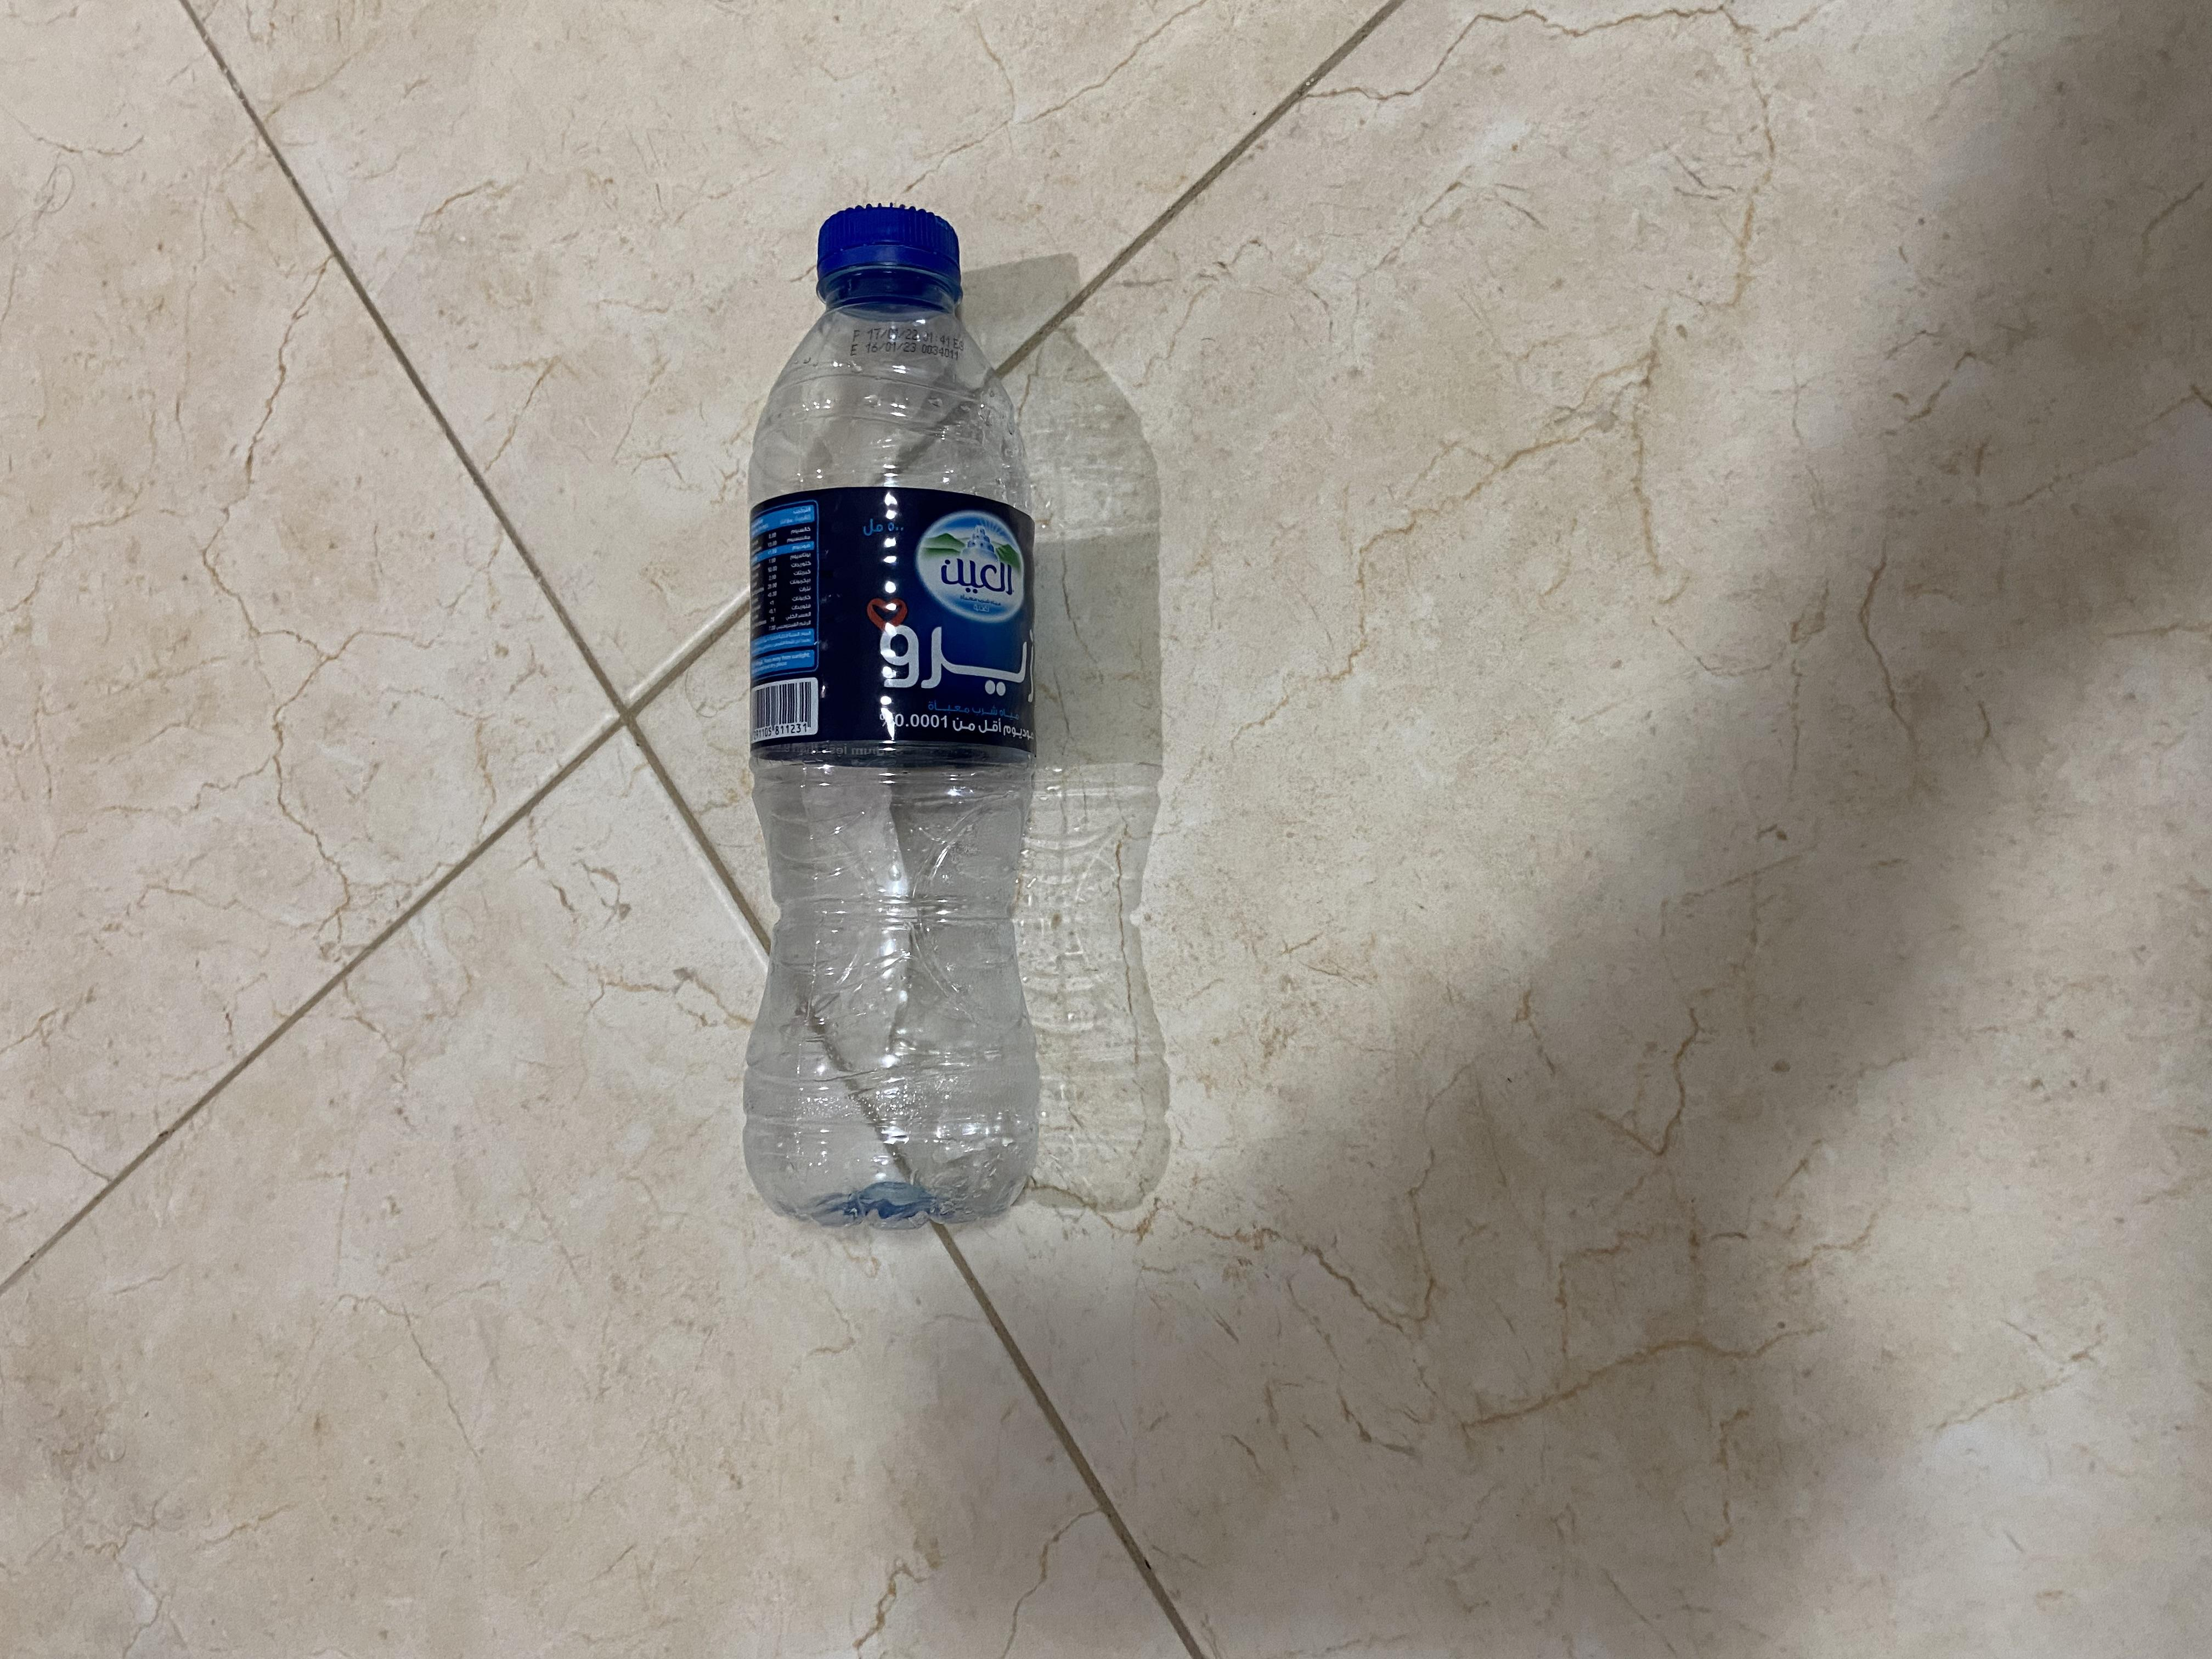bottle: (542, 540, 2000, 809)
